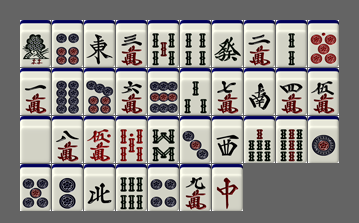0m: (84, 116, 115, 163)
0p: (308, 20, 339, 67)
0s: (116, 116, 147, 163)
1m: (20, 68, 51, 115)
1p: (308, 116, 339, 163)
1s: (20, 20, 51, 67)
1z: (84, 20, 115, 67)
2m: (244, 20, 275, 67)
2p: (52, 164, 83, 211)
2s: (276, 20, 307, 67)
2z: (244, 68, 275, 115)
3m: (116, 20, 147, 67)
3p: (180, 116, 211, 163)
3s: (180, 68, 211, 115)
3z: (212, 116, 243, 163)
4m: (276, 68, 307, 115)
4p: (148, 164, 179, 211)
4s: (180, 20, 211, 67)
4z: (84, 164, 115, 211)
5m: (308, 68, 339, 115)
5p: (20, 164, 51, 211)
5s: (148, 20, 179, 67)
5z: (20, 116, 51, 163)
6m: (116, 68, 147, 115)
6p: (52, 20, 83, 67)
6s: (116, 164, 147, 211)
6z: (212, 20, 243, 67)
7m: (212, 68, 243, 115)
7p: (84, 68, 115, 115)
7s: (244, 116, 275, 163)
7z: (212, 164, 243, 211)
8m: (52, 116, 83, 163)
8p: (52, 68, 83, 115)
8s: (148, 116, 179, 163)
9m: (180, 164, 211, 211)
9p: (148, 68, 179, 115)
9s: (276, 116, 307, 163)
